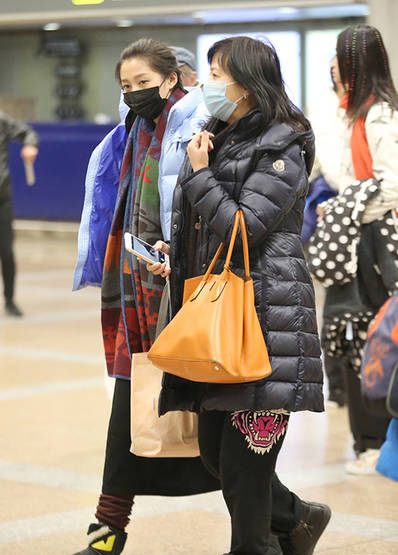face: (330, 39, 353, 85)
face_mask: (121, 59, 163, 120), (204, 49, 239, 119)
